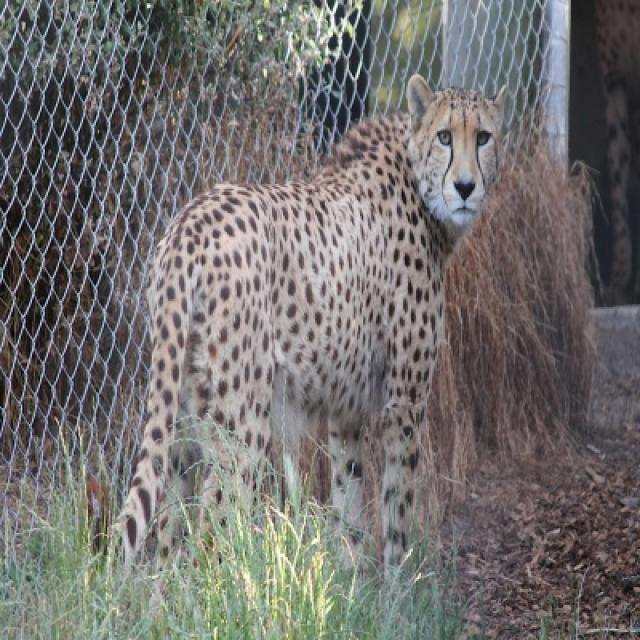Cheetah: (114, 78, 506, 560)
